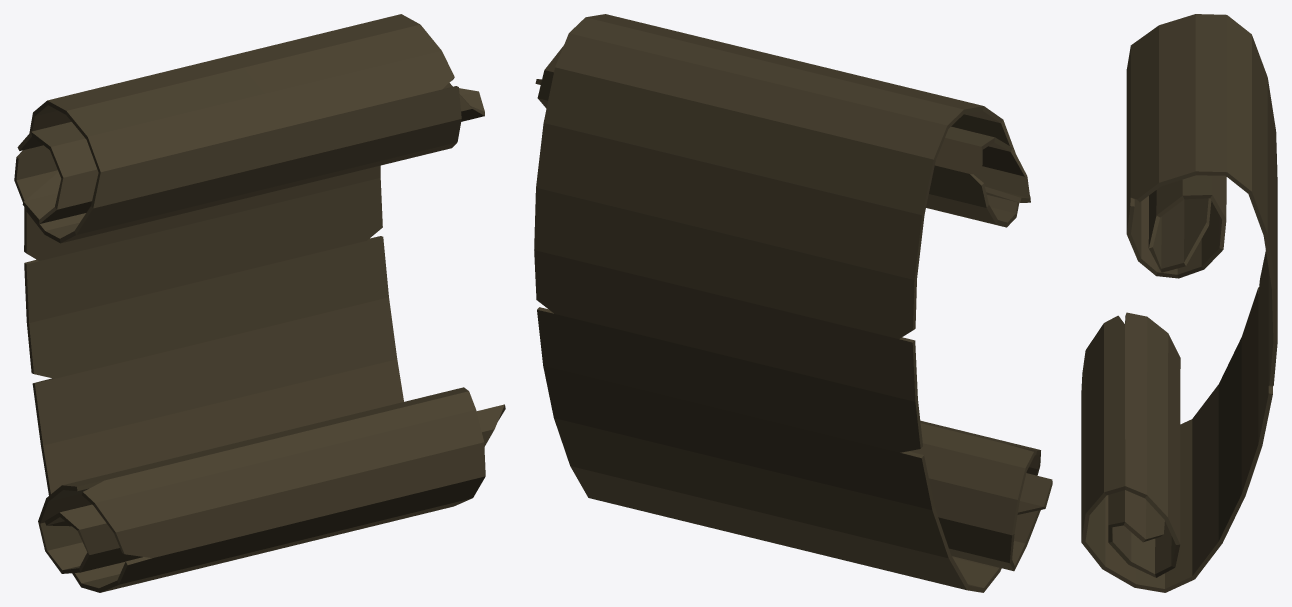
File: Parchment.obj
The picture shows the model from 3 angles, left to right: view 1: azimuth 30°, elevation 25°; view 2: azimuth 150°, elevation 25°; view 3: azimuth 270°, elevation 25°; orthographic projection. The views are drawn at different scales.
Parts seen in each view (by area): view 1: Parchment_Plane; view 2: Parchment_Plane; view 3: Parchment_Plane.
Part boxes in pixels (<box>): Parchment_Plane: <box>14,14,505,592</box>; Parchment_Plane: <box>534,14,1052,592</box>; Parchment_Plane: <box>1081,14,1277,592</box>.
Bounding box in the file's own units: 0.922 × 0.8995 × 0.3792.
